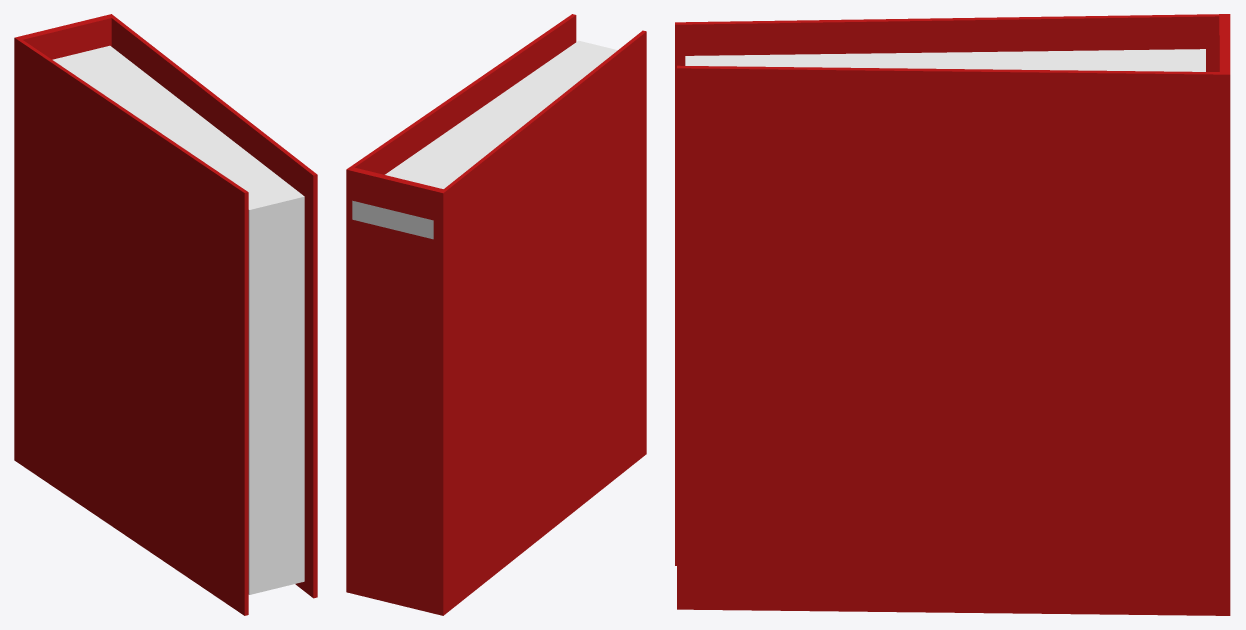
The model's file is Binder_Red.FBX.
The picture shows the model from 3 angles, left to right: view 1: azimuth 30°, elevation 25°; view 2: azimuth 150°, elevation 25°; view 3: azimuth 270°, elevation 25°; orthographic projection. The views are drawn at different scales.
Visible parts, largest first — view 1: Binder_Red; view 2: Binder_Red; view 3: Binder_Red.
Boxes of the visible parts, box(x1,y1,x2,y2) form: Binder_Red: box(14, 14, 317, 615); Binder_Red: box(346, 14, 646, 615); Binder_Red: box(675, 14, 1230, 615).
Size of the model in its own units: 0.1386 by 0.5764 by 0.5375.
